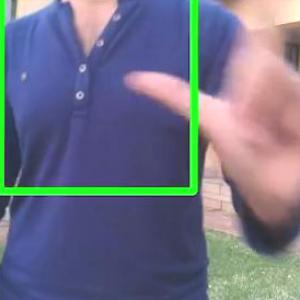land_hand: (121, 0, 299, 227)
